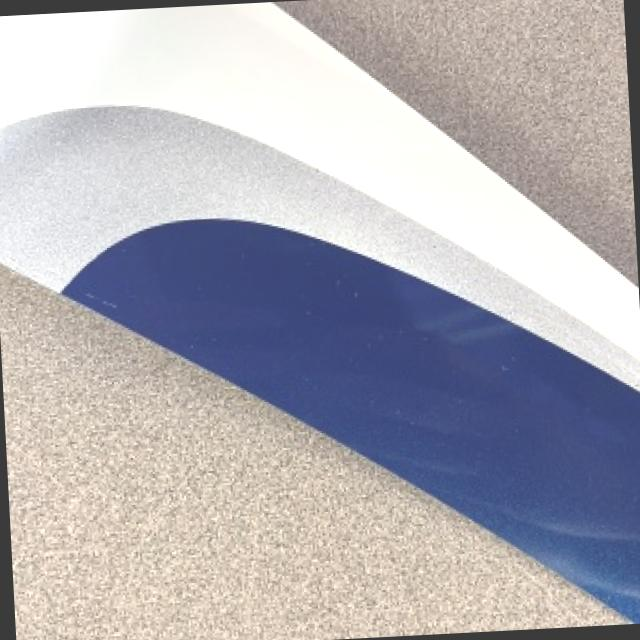healthy: (1, 264, 624, 640)
